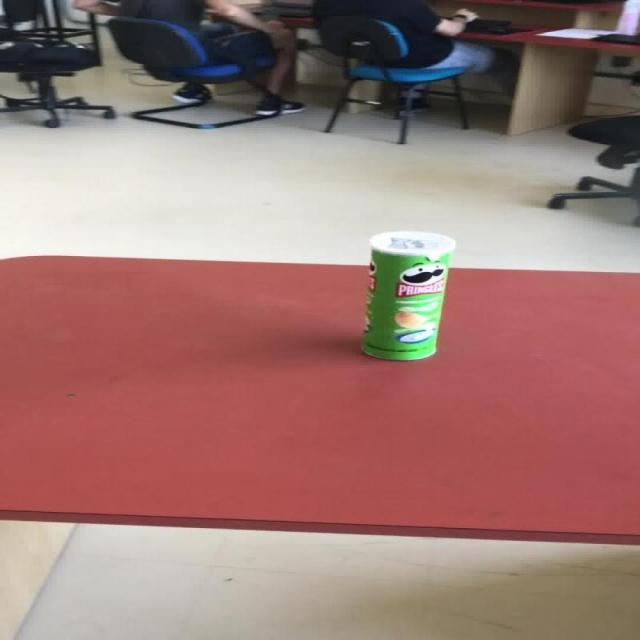Pringles: (359, 229, 455, 361)
